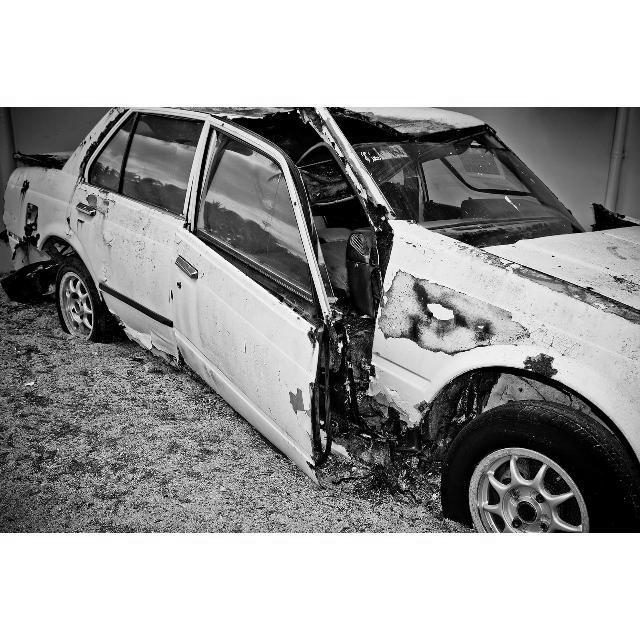bonnet-dent: (199, 142, 336, 464)
fender-dent: (393, 235, 639, 417)
quaterpanel-dent: (1, 169, 78, 252)
roof-dent: (171, 107, 502, 159)
